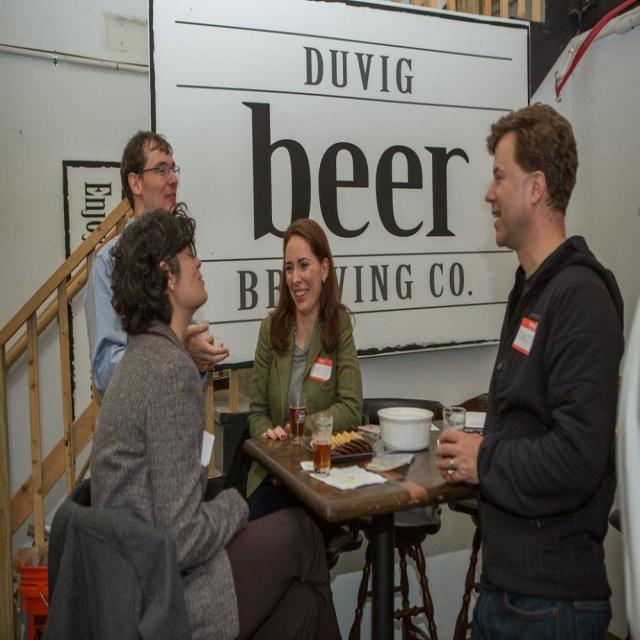body: (89, 200, 343, 640), (429, 94, 626, 639), (81, 128, 232, 408), (242, 217, 365, 524)
